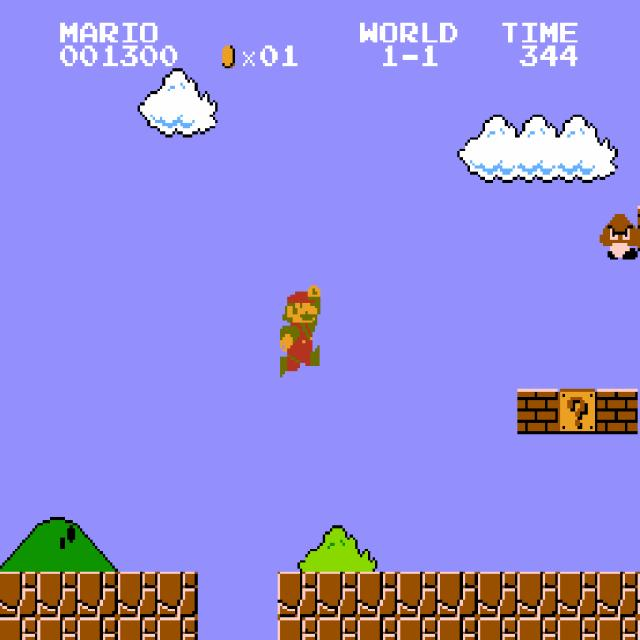big_mario: (277, 283, 320, 377)
brick_block: (517, 389, 558, 434), (597, 389, 638, 434), (637, 205, 640, 251)
mystery_block: (557, 389, 598, 434)
undestructible_block: (37, 572, 78, 617), (77, 572, 118, 617), (117, 572, 158, 617), (157, 572, 198, 617), (277, 572, 318, 617), (317, 572, 358, 617), (357, 572, 398, 617), (397, 572, 438, 617), (437, 572, 478, 617), (477, 572, 518, 617), (517, 572, 558, 617), (557, 572, 598, 617), (597, 572, 638, 617), (0, 572, 37, 617), (37, 617, 78, 640), (77, 617, 118, 640), (117, 617, 158, 640), (157, 617, 198, 640), (277, 617, 318, 640), (317, 617, 358, 640), (357, 617, 398, 640), (397, 617, 438, 640), (437, 617, 478, 640), (477, 617, 518, 640), (517, 617, 558, 640), (557, 617, 598, 640), (597, 617, 638, 640), (0, 617, 37, 640), (637, 571, 640, 617), (637, 617, 640, 639)
